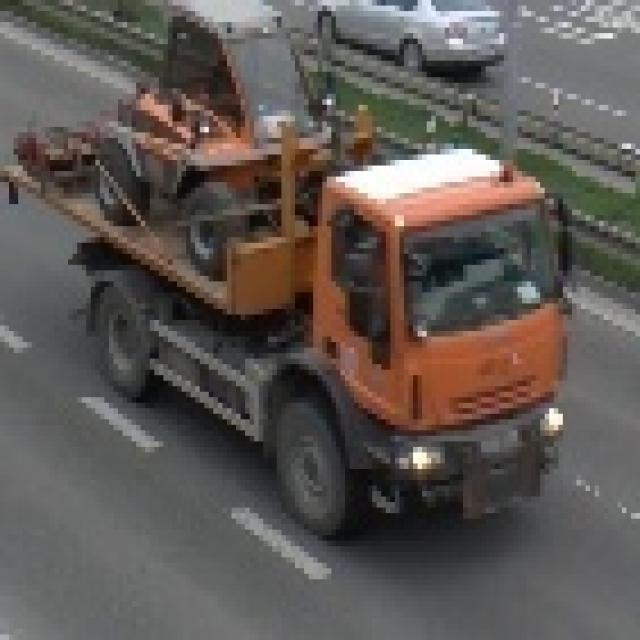truck: (4, 0, 582, 541)
